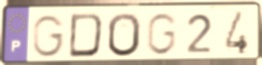2: (185, 13, 214, 55)
4: (223, 10, 251, 56)
D: (66, 12, 106, 60)
G: (31, 14, 67, 59), (144, 11, 179, 57)
O: (106, 11, 142, 59)
